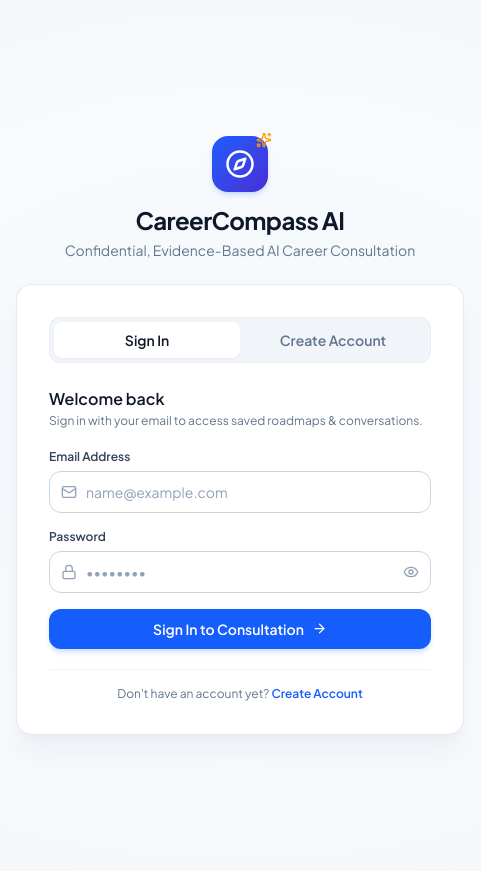
Authentication & Role Enforcement Frontend Tests › renders single authentication screen with Sign In and Create Account tabs
expect the heading "CareerCompass AI" is shown: met, box [136, 204, 344, 234]
expect the button with test id "tab-login" is shown: met, box [54, 322, 240, 358]
Switch to Create Account tab
Click the button with test id "tab-signup". click: (333, 340)
box: [240, 322, 426, 358]
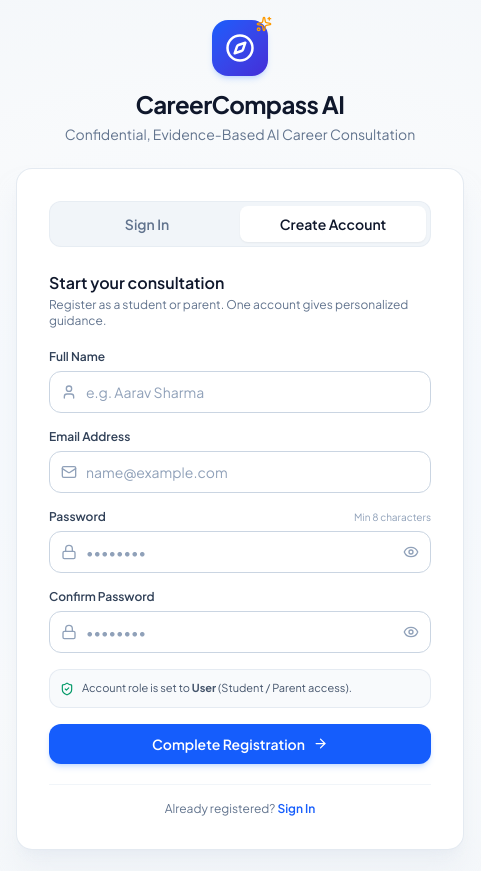
expect the field with placeholder "e.g. Aarav Sharma" is shown: met, box [49, 371, 431, 413]
expect the number of password fields with placeholder "••••••••" is 2: met, box [49, 531, 431, 573]; [49, 611, 431, 653]
expect the text "Account role is set to User (Student / Parent access)." is shown: met, box [82, 680, 352, 697]
